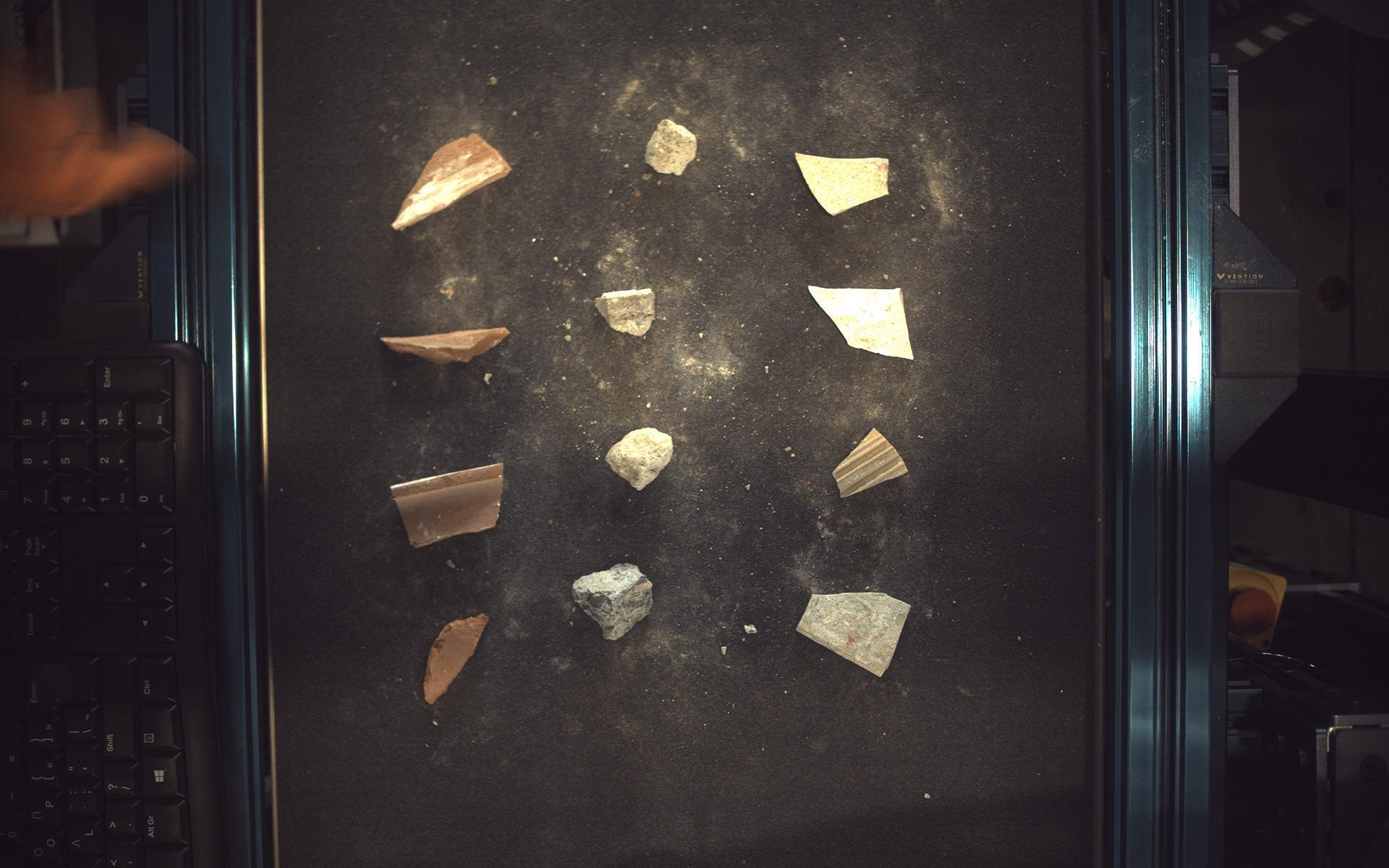brick: (391, 132, 511, 229), (391, 464, 504, 548), (424, 615, 489, 705), (381, 327, 510, 364)
concrete: (573, 564, 653, 641), (606, 427, 674, 490), (646, 118, 698, 174), (595, 289, 655, 336)
tile: (798, 592, 912, 677), (810, 286, 915, 359), (797, 153, 891, 214), (835, 428, 909, 498)
